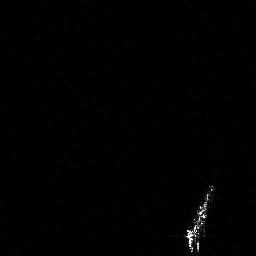ship: (183, 183, 219, 254)
